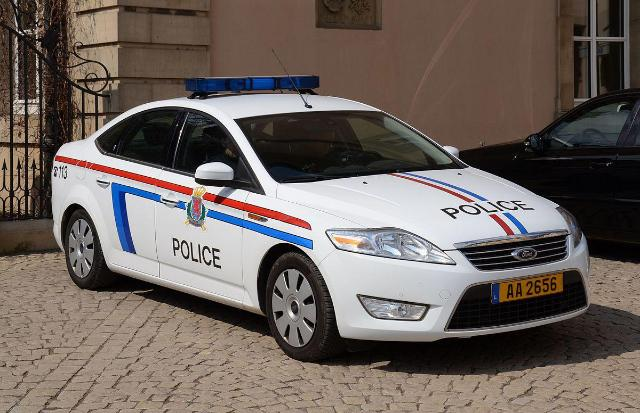police: (45, 74, 592, 354)
